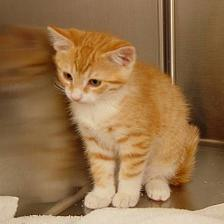cat: (41, 16, 145, 113)
